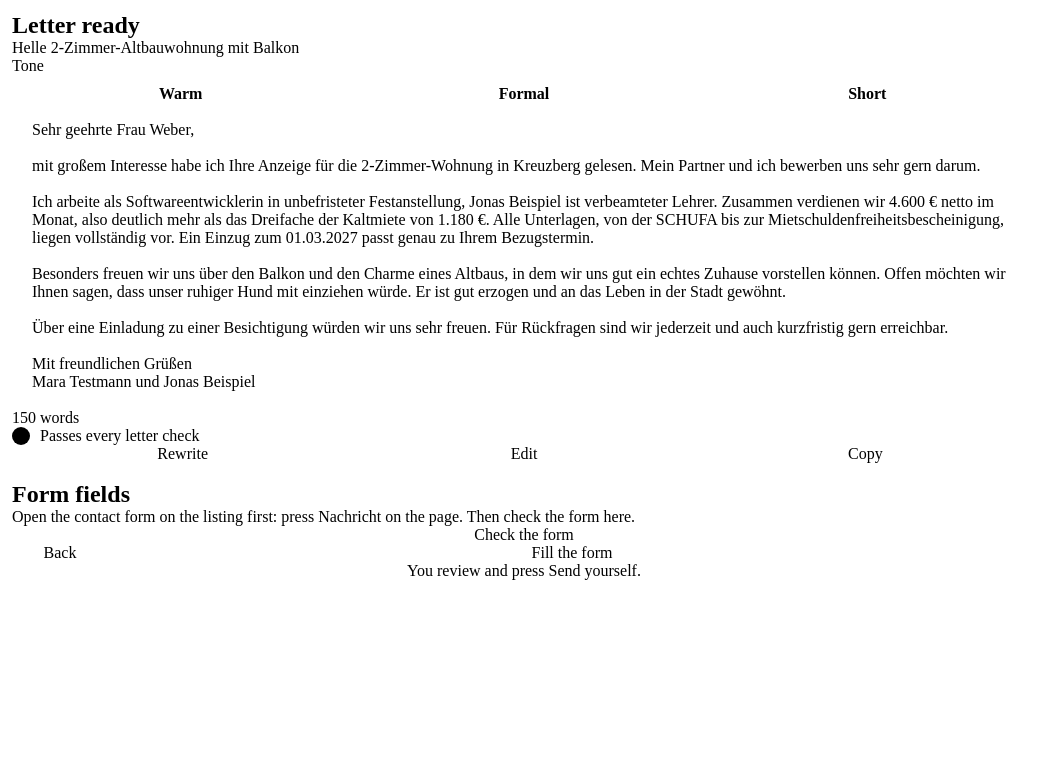
LetterReady › copies exactly the letter and leaves it unchanged
The width and height of the screenshot is (1048, 780).
Click the button "Copy" at x=865, y=454, box [695,445,1036,463]
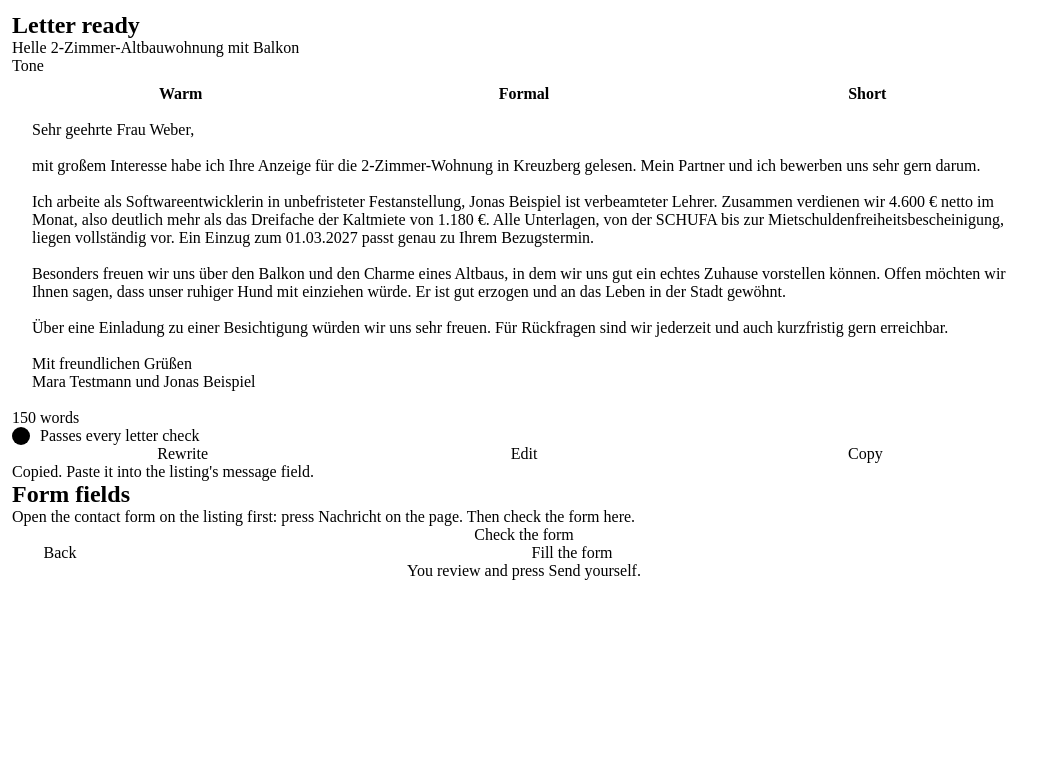
Now the text "Copied. Paste it into the listing's message field." is shown, box [12,463,314,480]
